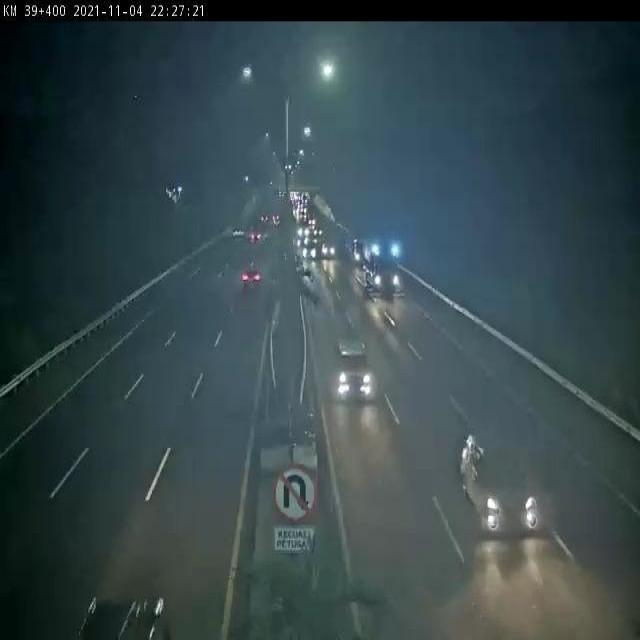car: (459, 433, 539, 531), (334, 338, 374, 402), (241, 267, 261, 293)
truck-m-: (363, 236, 403, 295)
